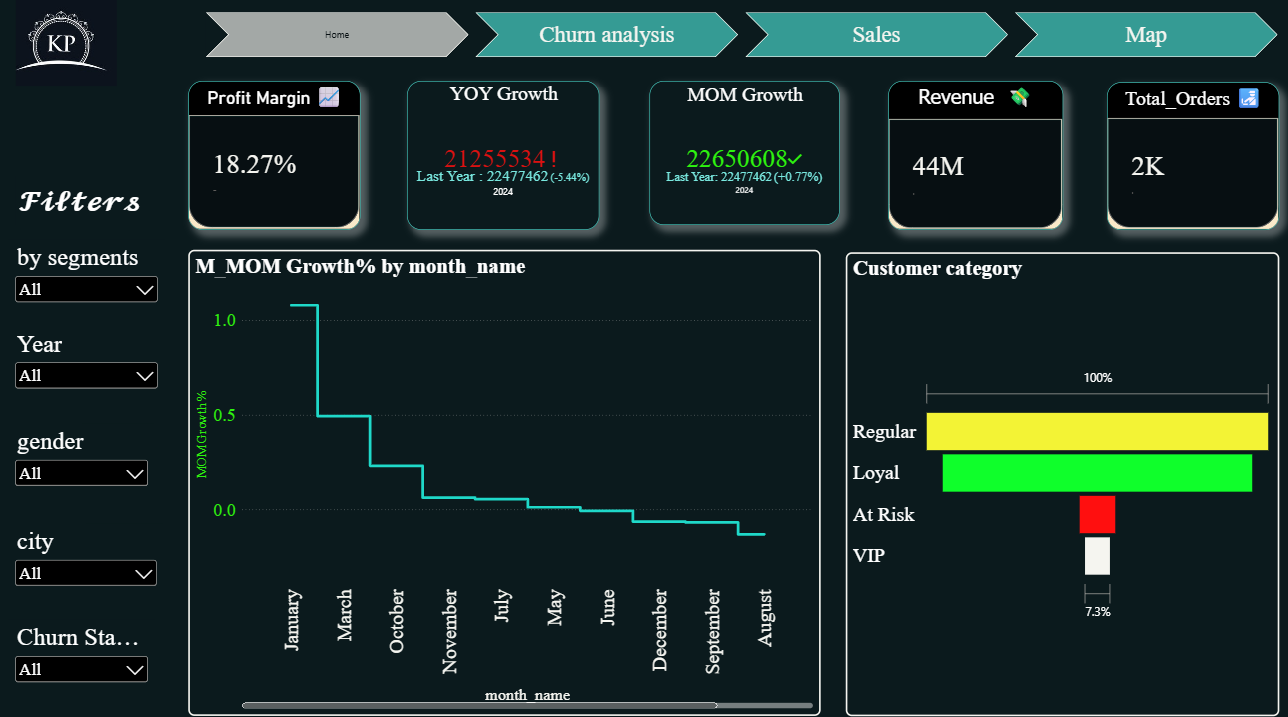

This screenshot's page, from the dashboard's own definition file:
{"tool":"powerbi","page":{"name":"Home","canvas":[1920,1080],"ordinal":0},"visuals":[{"type":"kpi","title":"YOY Growth ","fields":{"Indicator":["orders_cleaned2.M_Privious_year_sales"],"TrendLine":["date_dimension_clean.year"],"Goal":["orders_cleaned2.M_Total_revenue"]},"box":[604,125.2,283.4,219],"z":0},{"type":"kpi","title":"MOM Growth","fields":{"Indicator":["orders_cleaned2.M_Privious month sales"],"Goal":["orders_cleaned2.M_Total_revenue"],"TrendLine":["date_dimension_clean.year"]},"box":[960.7,125.2,279.8,211.7],"z":1000},{"type":"cardVisual","title":"Total_Orders 🛃","fields":{"Data":["orders_cleaned2.M_total_orders"]},"box":[1634.4,127,253.6,217.4],"z":2000},{"type":"funnel","title":"Customer category ","fields":{"Category":["Customer Churn Summary.Customer Category"],"Y":["CountNonNull(Customer Churn Summary.Total Orders)"]},"box":[1249.7,377.3,638.7,682.8],"z":3000},{"type":"cardVisual","title":"Revenue  💸","fields":{"Data":["orders_cleaned2.M_Total_revenue"]},"box":[1312.3,125.2,257.3,219.2],"z":4000},{"type":"cardVisual","title":"Profit Margin 📈","fields":{"Data":["orders_cleaned2.M_Profit_Margin %"]},"box":[281.6,125.2,253.6,219.2],"z":5000},{"type":"pageNavigator","box":[307.4,23.9,1581,66.3],"z":6000},{"type":"slicer","fields":{"Values":["customers_clean.customer_segment"]},"box":[16.6,358.9,230.1,145.4],"z":8000},{"type":"slicer","fields":{"Values":["date_dimension_clean.date.Variation.Date Hierarchy.Year"]},"box":[16.6,485.9,230.1,104.9],"z":9000},{"type":"slicer","fields":{"Values":["customers_clean.gender"]},"box":[16.6,629.5,215.3,121.5],"z":10000},{"type":"slicer","fields":{"Values":["customers_clean.city"]},"box":[16.6,776.7,228.2,116],"z":11000},{"type":"slicer","fields":{"Values":["Customer Churn Summary.Churn Status"]},"box":[16.6,918.4,215.3,141.7],"z":12000},{"type":"lineChart","title":"M_MOM Growth% by month_name","fields":{"Category":["date_dimension_clean.month_name"],"Y":["orders_cleaned2.M_MOM Groth%"]},"box":[281.6,373.6,931.3,686.5],"z":13000},{"type":"textbox","box":[27.6,265,204.3,71.8],"z":14000},{"type":"image","box":[27.6,0,149.1,132.5],"z":14001}]}

Visuals, with their boxes in screenshot pixels (x1, y1, x2, y2), scaled from the page's 1920x1080 canvas onto the 1288x717 screenshot:
"YOY Growth " kpi: box(405, 83, 595, 229)
"MOM Growth" kpi: box(644, 83, 832, 224)
"Total_Orders 🛃" cardVisual: box(1096, 84, 1267, 229)
"Customer category " funnel: box(838, 250, 1267, 704)
"Revenue  💸" cardVisual: box(880, 83, 1053, 229)
"Profit Margin 📈" cardVisual: box(189, 83, 359, 229)
pageNavigator: box(206, 16, 1267, 60)
slicer - customers_clean.customer_segment: box(11, 238, 165, 335)
slicer - date_dimension_clean.date.Variation.Date Hierarchy.Year: box(11, 323, 165, 392)
slicer - customers_clean.gender: box(11, 418, 156, 499)
slicer - customers_clean.city: box(11, 516, 164, 593)
slicer - Customer Churn Summary.Churn Status: box(11, 610, 156, 704)
"M_MOM Growth% by month_name" lineChart: box(189, 248, 814, 704)
textbox: box(19, 176, 156, 224)
image: box(19, 0, 119, 88)
